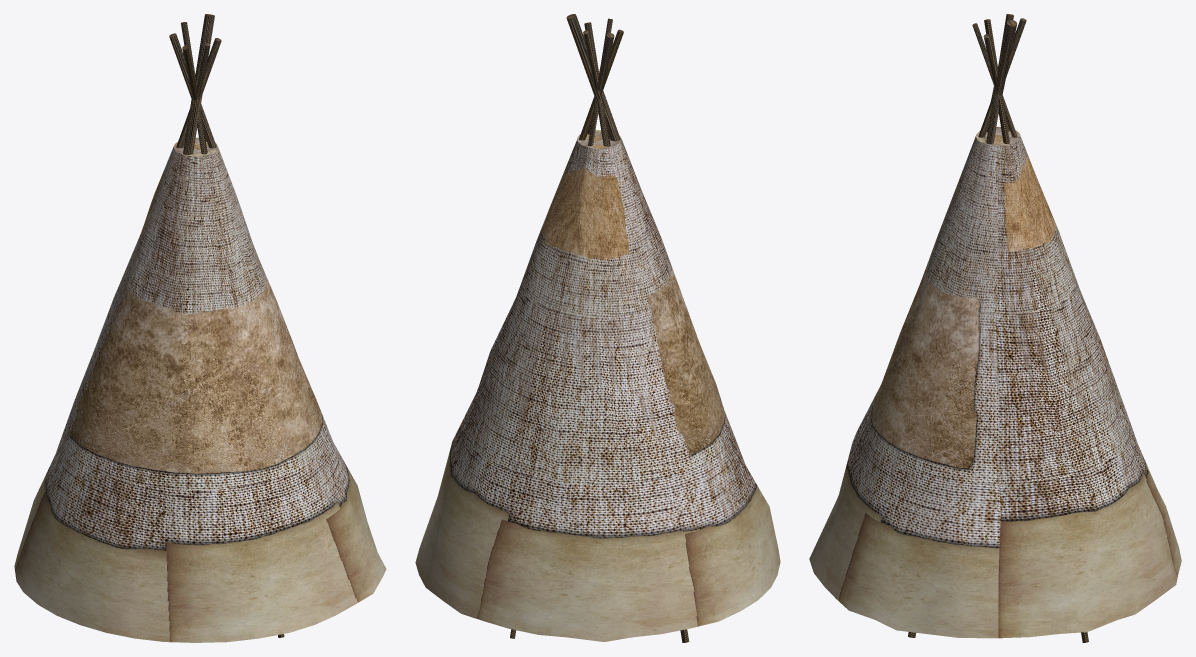
The model's file is tent.fbx.
3 renders of one model, left to right at view 1: azimuth 30°, elevation 25°; view 2: azimuth 150°, elevation 25°; view 3: azimuth 270°, elevation 25°, orthographic.
Parts seen in each view (by area): view 1: Cone, Cylinder_3, Cylinder_1, Cylinder_2, Cylinder_5; view 2: Cone, Cylinder_3, Cylinder_5, Cylinder; view 3: Cone, Cylinder_3, Cylinder, Cylinder_1.
Part boxes in pixels (<box>): Cone: <box>14,137,386,642</box>; Cylinder_3: <box>183,14,214,154</box>; Cylinder_1: <box>169,33,216,148</box>; Cylinder_2: <box>181,22,284,637</box>; Cylinder_5: <box>176,38,221,148</box>; Cone: <box>415,130,780,641</box>; Cylinder_3: <box>566,14,620,141</box>; Cylinder_5: <box>584,22,689,642</box>; Cylinder: <box>579,29,623,140</box>; Cone: <box>809,126,1181,638</box>; Cylinder_3: <box>987,20,1016,132</box>; Cylinder: <box>984,19,1088,642</box>; Cylinder_1: <box>908,14,1013,637</box>.
Bounding box in the file's own units: 116 × 196 × 117.
Materials: 3 (3 with a texture image).
